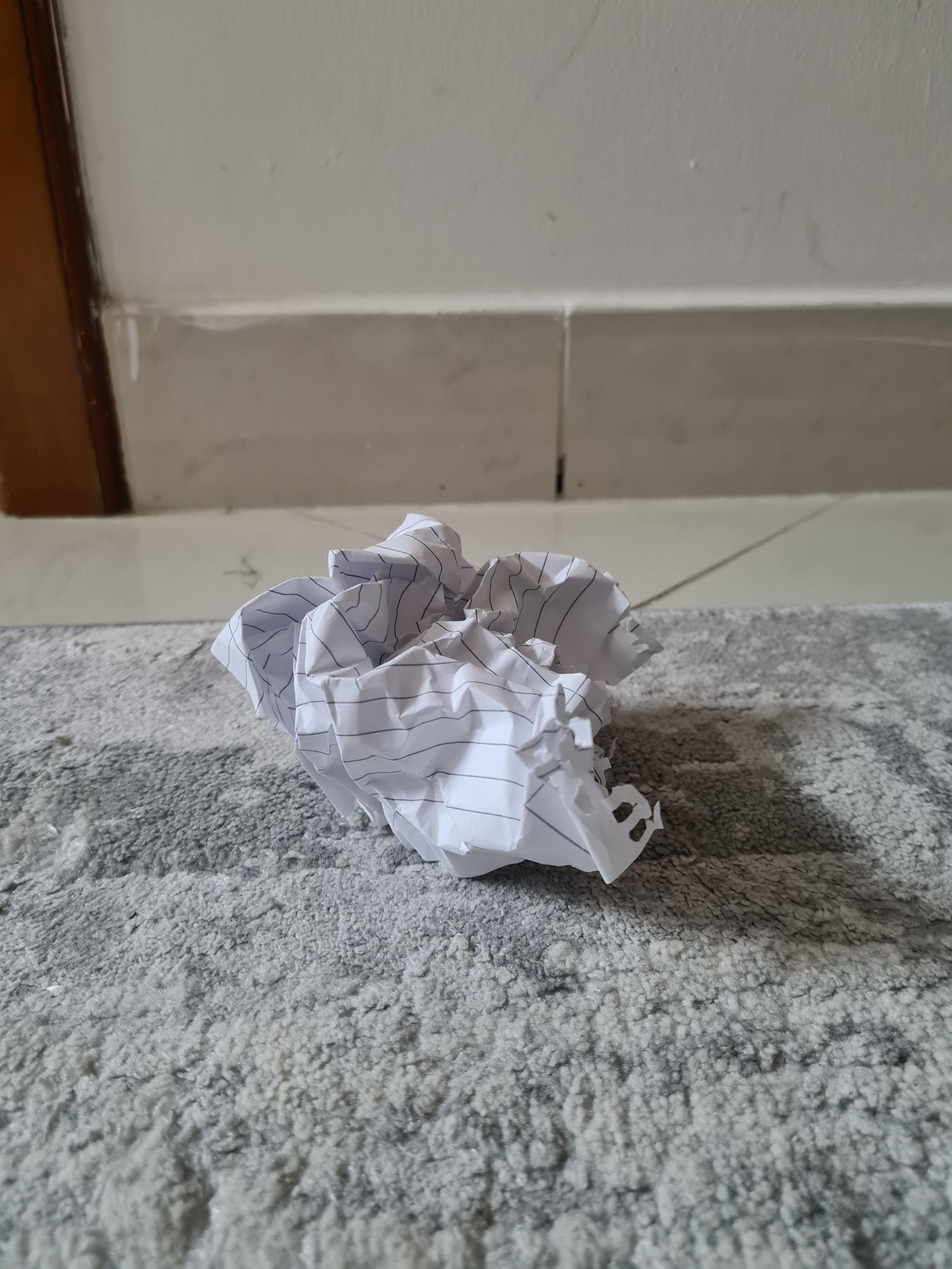paper: (234, 517, 669, 873)
